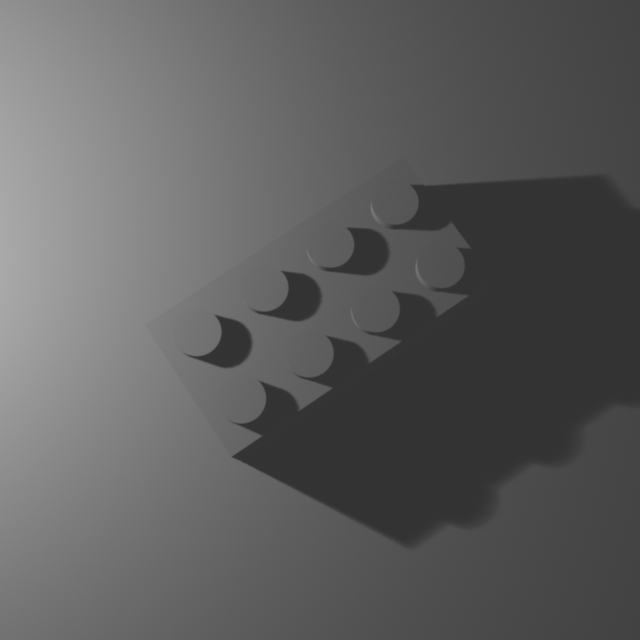lego_2x4: (142, 151, 497, 461)
